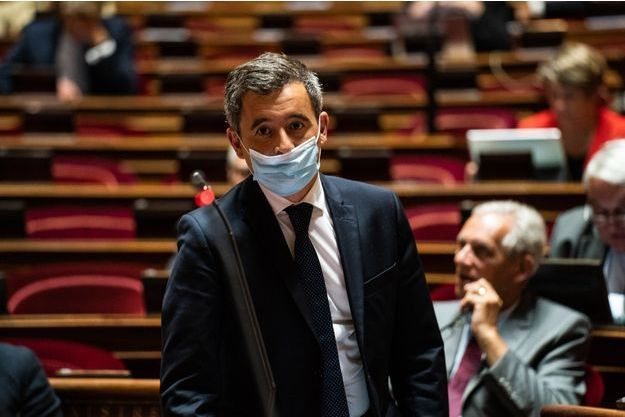with_incorrect_mask: (226, 74, 333, 195)
without_mask: (454, 208, 537, 309)
